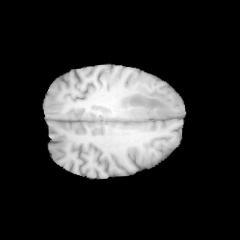glioma: (121, 94, 167, 118)
